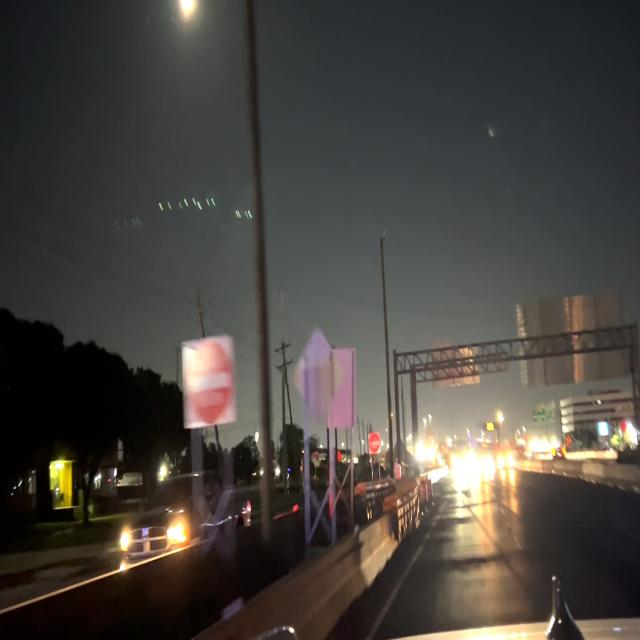back-of-sign: (514, 289, 625, 381), (293, 335, 342, 425), (332, 349, 353, 427)
